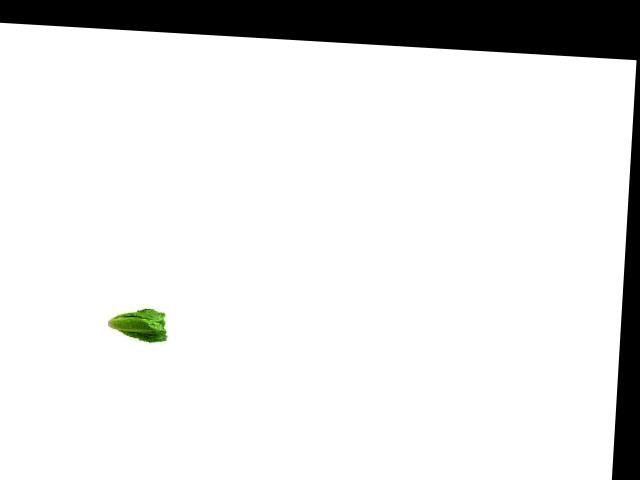lettuce: (104, 301, 171, 348)
